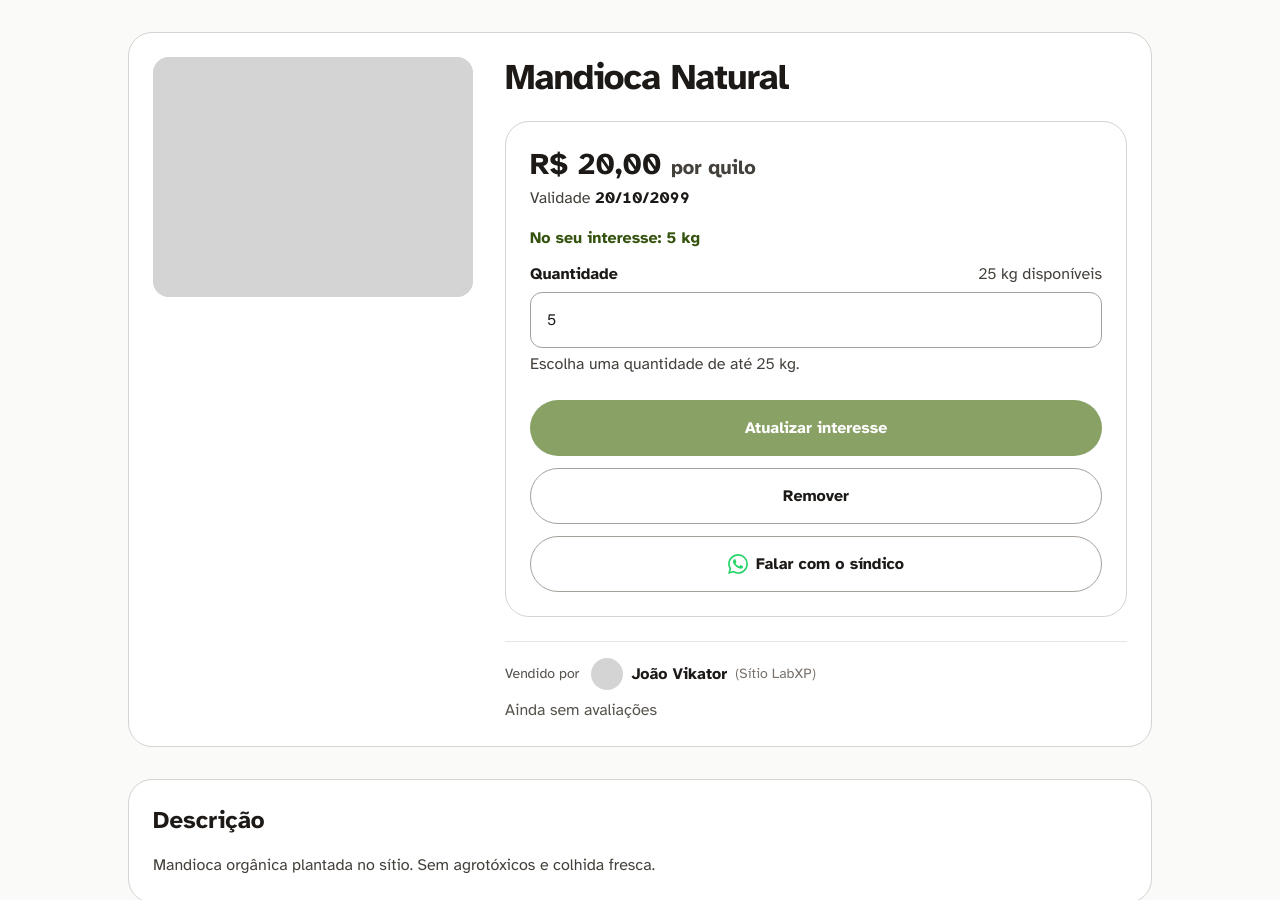
Test: ProductDetail, interest removal › goes back without removing
What coordinates should you click on to do the following:
click the button "Remover"
I would click on:
 (816, 496)
Its box is 530,468 -> 1102,524.
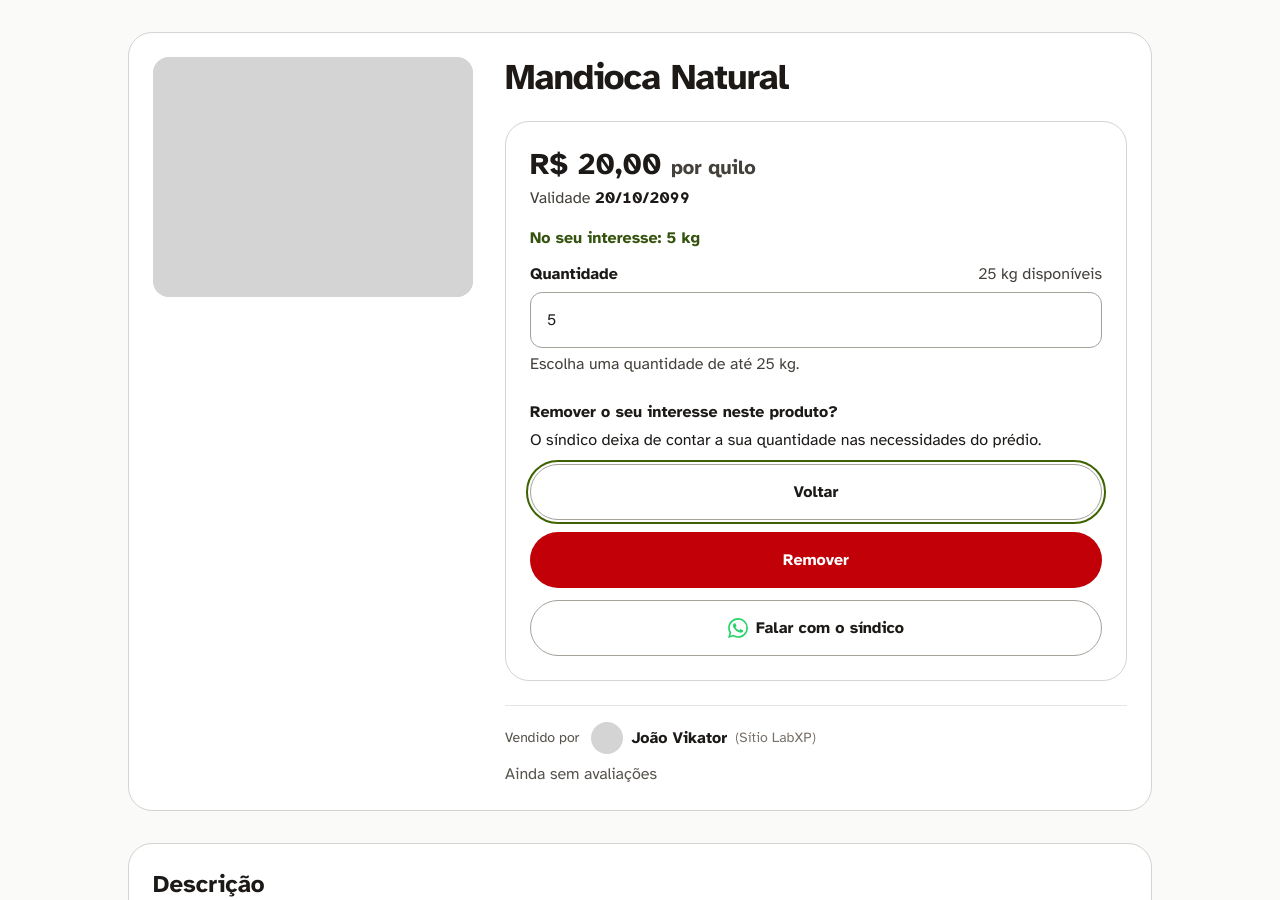
What coordinates should you click on to do the following:
click the button "Voltar"
I would click on:
 (816, 492)
Its box is 530,464 -> 1102,520.
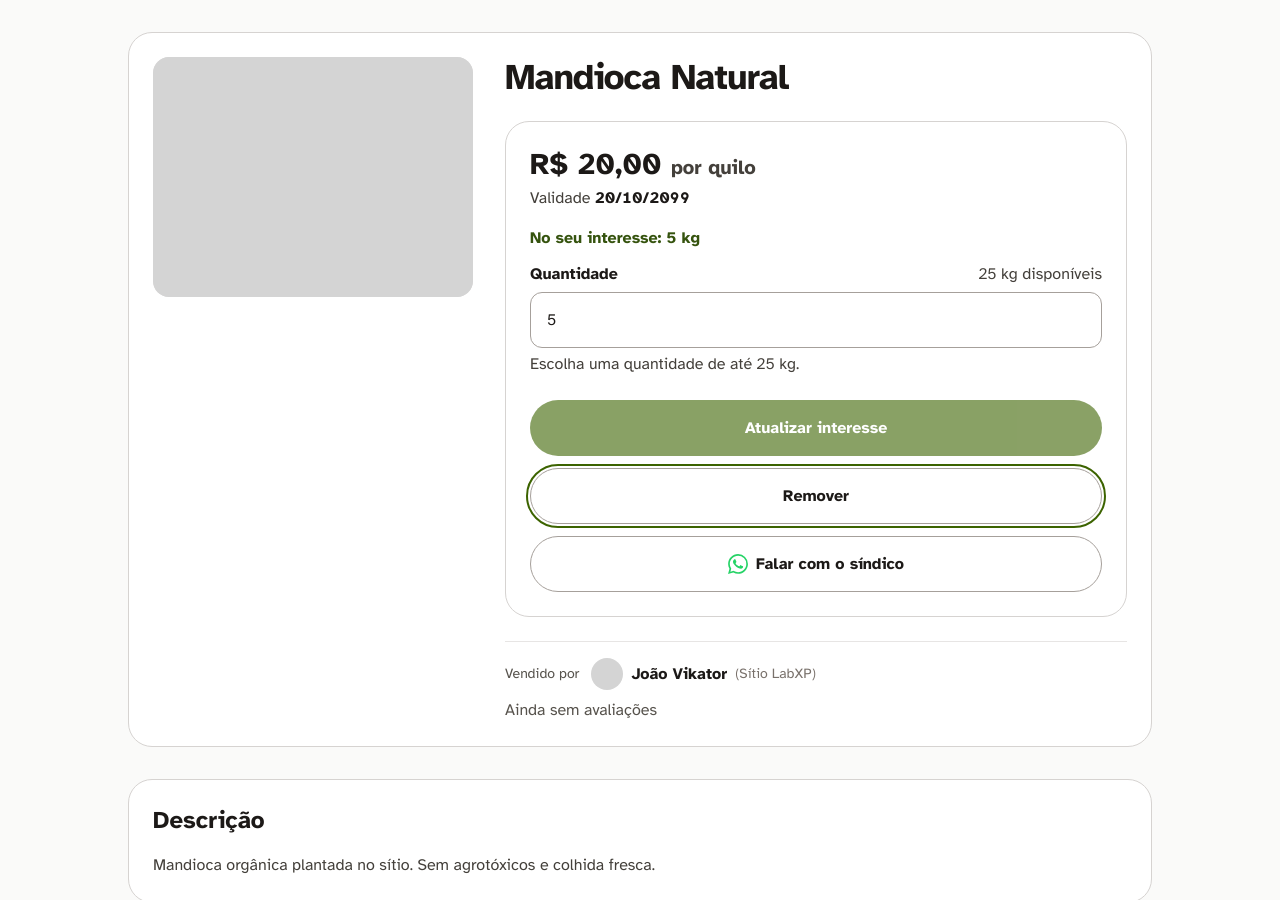
Check: the text "Remover o seu interesse neste produto?" is gone
Check: the button "Atualizar interesse" is shown, box 530,400 -> 1102,456
